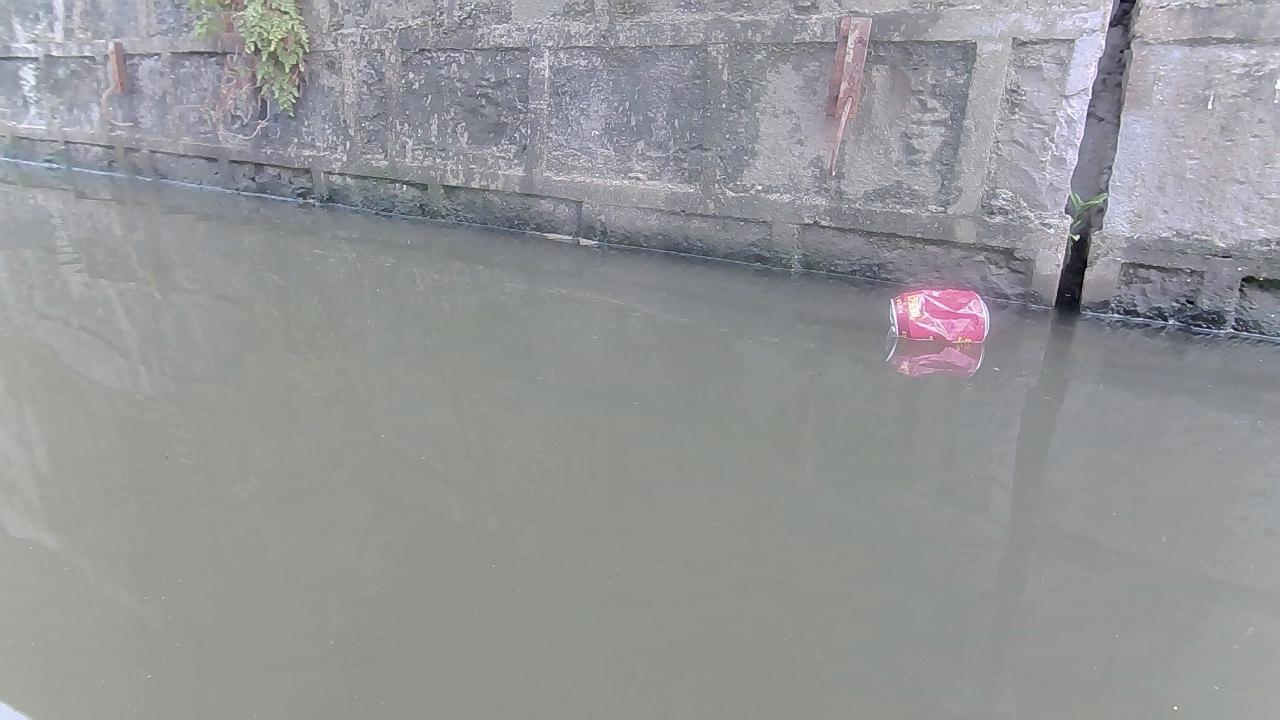Metal: (886, 288, 992, 345)
